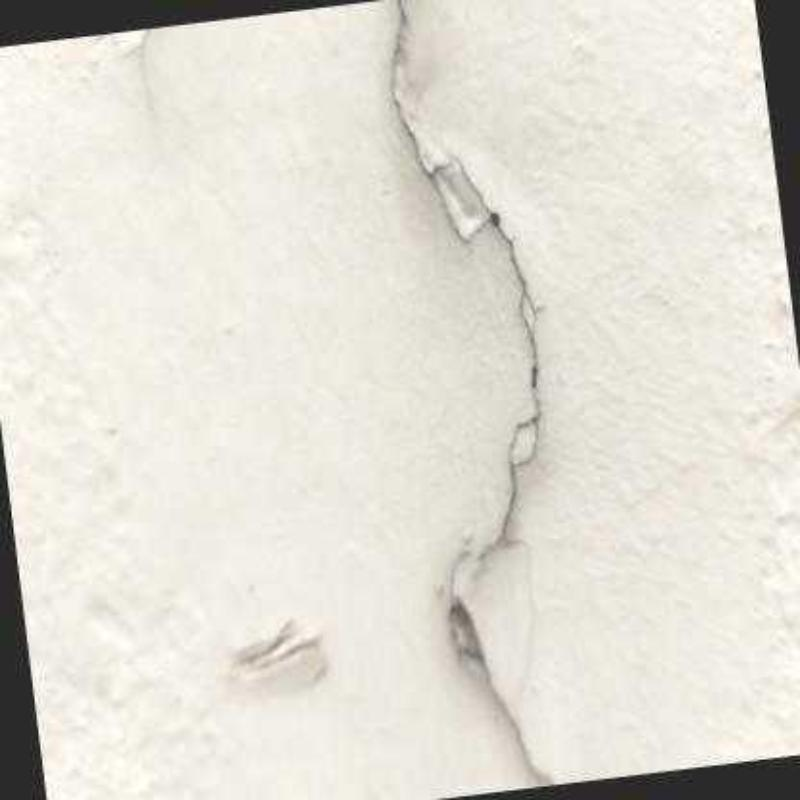crack: (385, 0, 557, 786)
